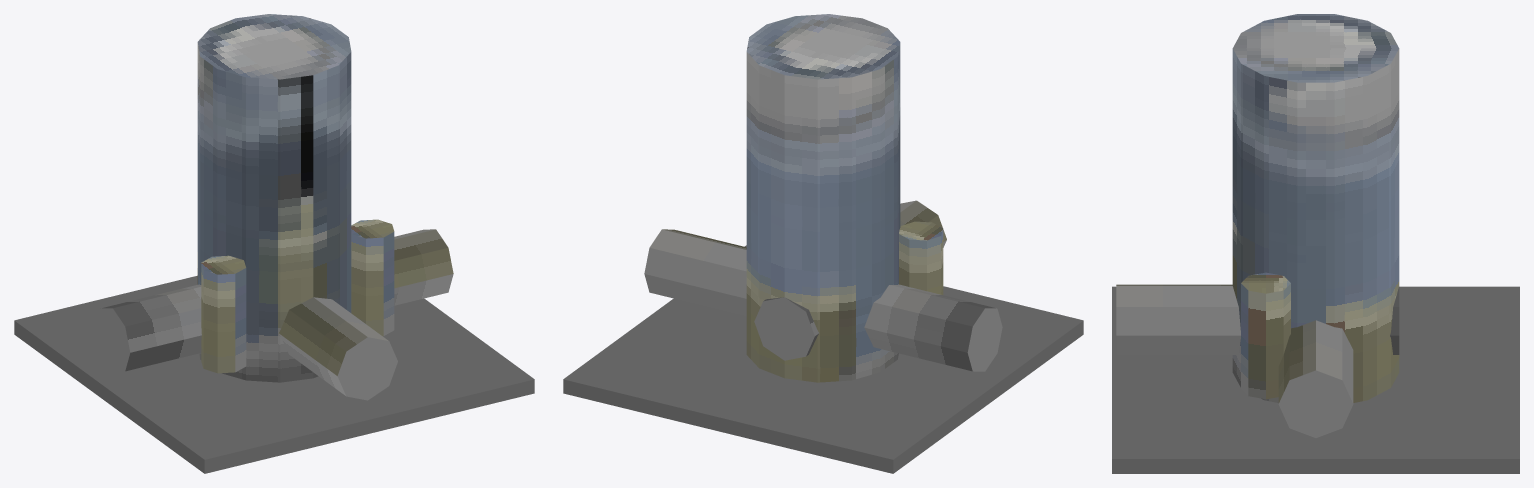
The model's file is Building_MoisturePump.glb.
3 views of the same model, side by side, from view 1: azimuth 30°, elevation 25°; view 2: azimuth 150°, elevation 25°; view 3: azimuth 270°, elevation 25° (orthographic). The views are drawn at different scales.
Visible parts, largest first — view 1: MoisturePump; view 2: MoisturePump; view 3: MoisturePump.
Boxes of the visible parts, x1=… form: MoisturePump: x1=14, y1=14, x2=534, y2=473; MoisturePump: x1=563, y1=14, x2=1083, y2=473; MoisturePump: x1=1112, y1=14, x2=1519, y2=473.
Bounding box in the file's own units: 0.98 × 0.9 × 0.98.
Materials: 1 (1 with a texture image).
